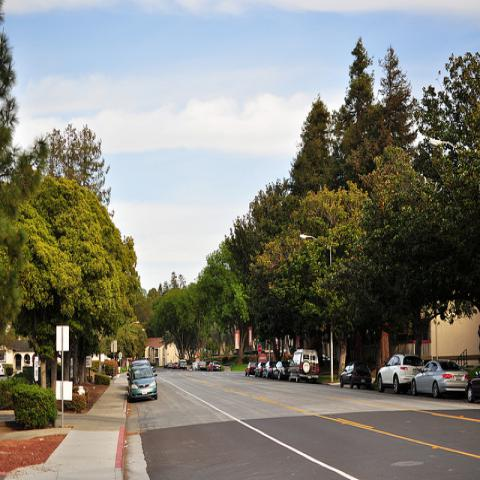car: (172, 352, 330, 378), (411, 360, 470, 397), (377, 354, 424, 393), (127, 366, 158, 400), (340, 360, 372, 389), (126, 360, 158, 378), (277, 360, 299, 383), (466, 368, 479, 406), (262, 361, 277, 380), (245, 362, 257, 376), (196, 360, 207, 370), (211, 362, 221, 371), (167, 362, 174, 370), (163, 363, 168, 369)
truck: (287, 348, 319, 384)
